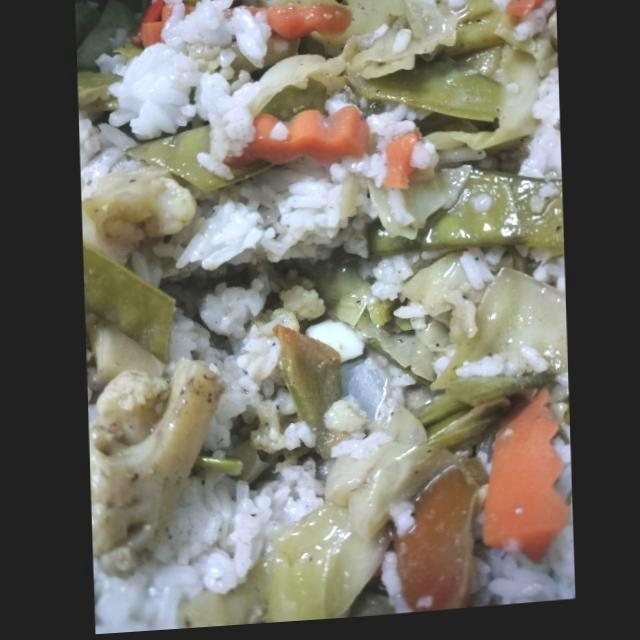left_over_food: (132, 108, 561, 286), (77, 0, 416, 182), (261, 404, 509, 627), (268, 0, 561, 188), (155, 266, 365, 511), (92, 453, 325, 636), (355, 249, 566, 429), (86, 360, 224, 580), (451, 376, 573, 614), (78, 111, 194, 267), (377, 463, 488, 619), (306, 260, 441, 384), (82, 243, 175, 391), (306, 322, 420, 440), (227, 110, 371, 168), (133, 125, 233, 193), (132, 126, 230, 195)
